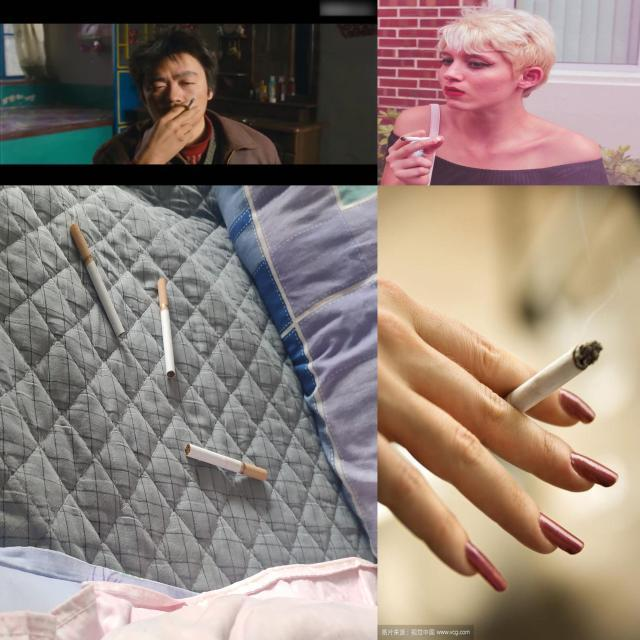smoking: (505, 338, 606, 416), (70, 222, 126, 339), (185, 442, 268, 482), (157, 278, 176, 379), (398, 134, 444, 144), (185, 96, 200, 115)
